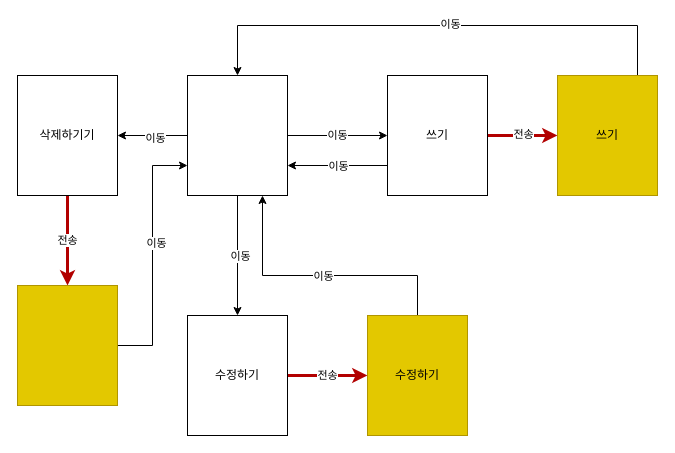
Image size: 675x453. Some labels were removed from this diagram. Each missing label, with the centre of its shape:
"목록보기" goes at (237,135).
"삭제하기" goes at (67,345).
